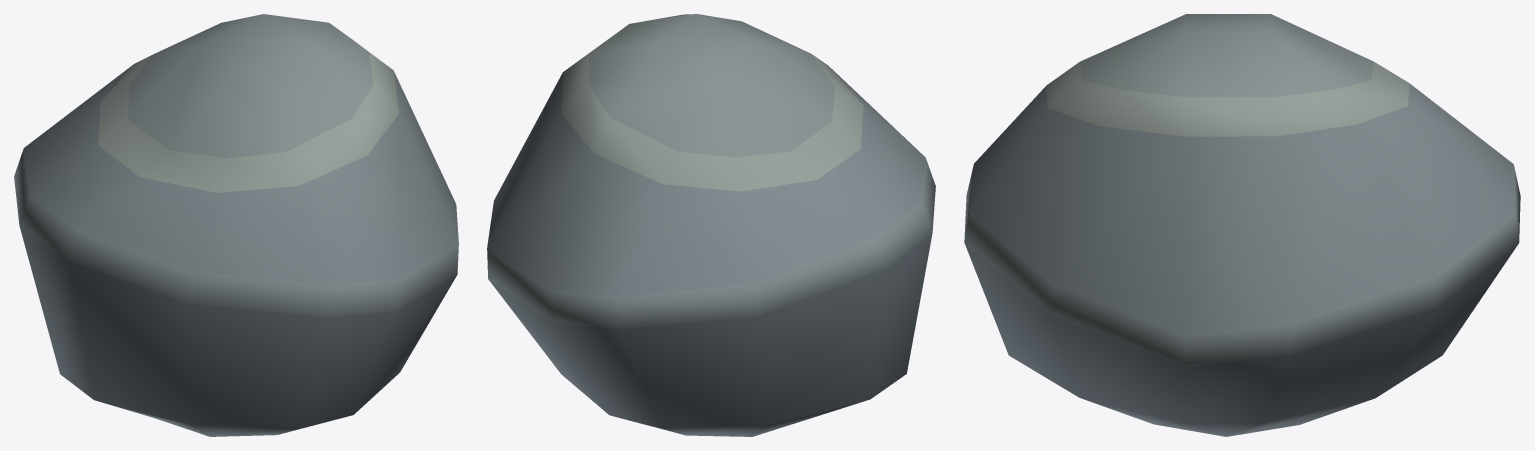
Rendered from iron_ore_L.fbx.
The picture shows the model from 3 angles, left to right: view 1: azimuth 30°, elevation 25°; view 2: azimuth 150°, elevation 25°; view 3: azimuth 270°, elevation 25°; orthographic projection. The views are drawn at different scales.
Parts seen in each view (by area): view 1: iron_ore_L; view 2: iron_ore_L; view 3: iron_ore_L.
Part boxes in pixels (x1,y1,x2,y2): iron_ore_L: (14, 14, 458, 436); iron_ore_L: (487, 14, 935, 436); iron_ore_L: (964, 14, 1520, 436).
Size of the model in its own units: 57.57 by 50.51 by 64.42.
Materials: 1 (1 with a texture image).
